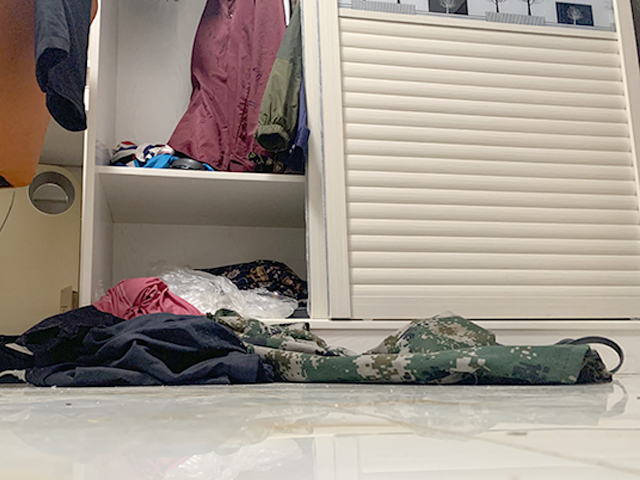cabinet: (83, 7, 639, 377)
